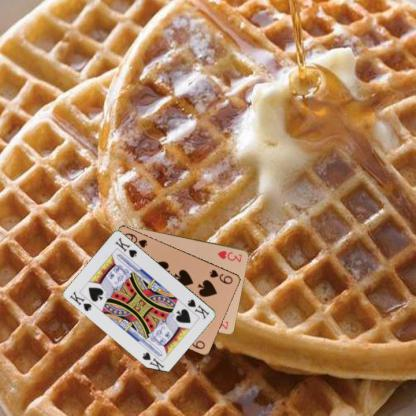3h: (215, 248, 243, 263)
9s: (207, 267, 234, 285)
Ks: (185, 296, 211, 320), (67, 289, 93, 312)
